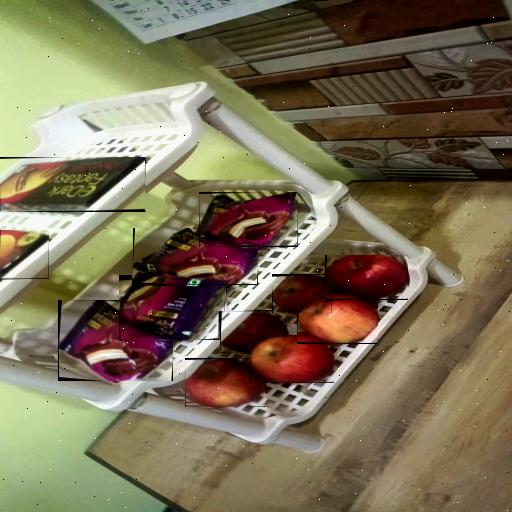Apple: (250, 335, 334, 383), (297, 296, 378, 344), (186, 359, 264, 407), (326, 255, 408, 300), (220, 311, 287, 353), (272, 275, 332, 313)
Choco Fills: (0, 157, 145, 211), (0, 230, 49, 279)
Choco Pie: (59, 300, 173, 381), (133, 228, 258, 284), (120, 277, 225, 340), (199, 192, 298, 246)
